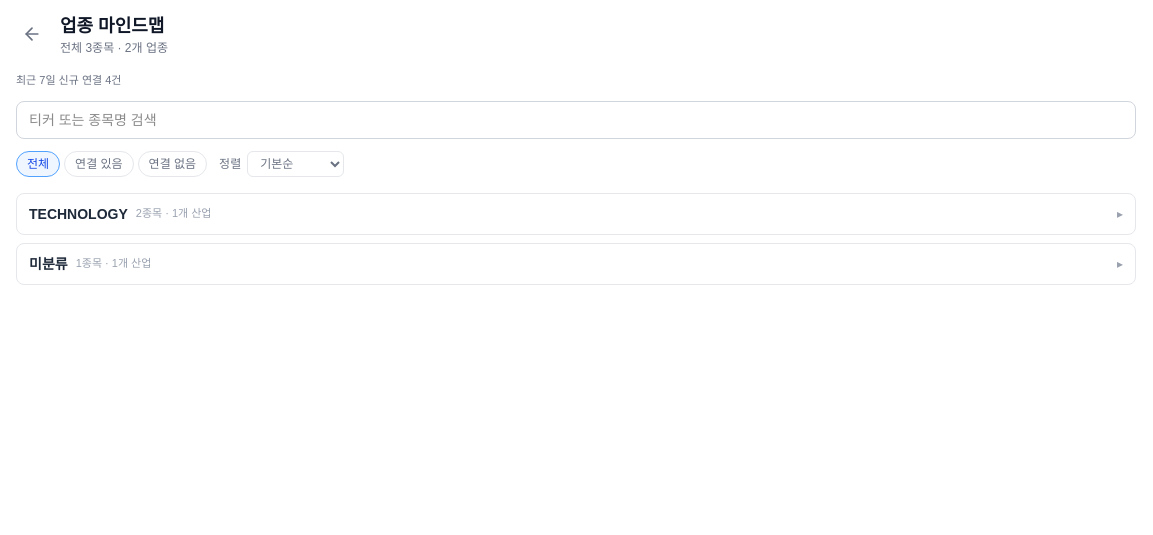
Test: MindmapTreeBoard (CS-P5-FE-CARD B3) › 필터 "연결 있음" → gate_conn_count=0 카드(AMD) 숨김 + 자동 펼침
Click the button "연결 있음" at (99, 164), box [64,150,134,176]
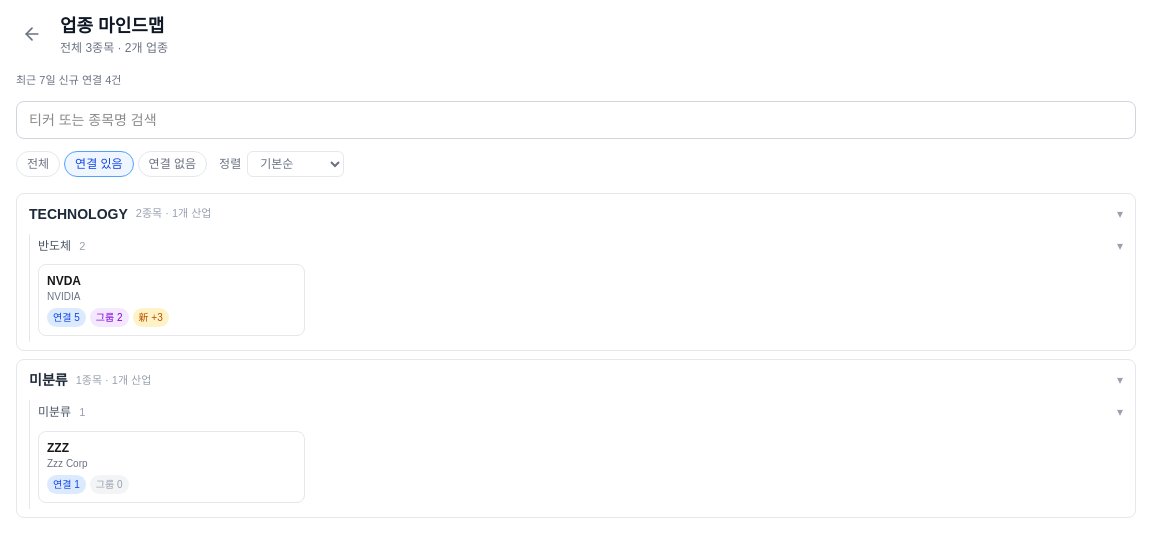
Expected: the text "NVDA" is shown, [47,274,81,288]
Expected: the text "ZZZ" is shown, [47,440,69,454]
